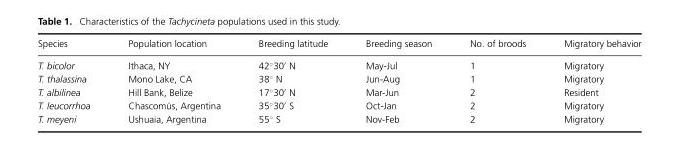table: (37, 37, 640, 124)
table column: (108, 37, 238, 124), (238, 37, 346, 124), (346, 37, 450, 124), (544, 37, 640, 124), (450, 37, 544, 124), (37, 37, 108, 124)
table column header: (37, 37, 640, 53)
table row: (37, 53, 640, 71), (37, 37, 640, 53), (37, 71, 640, 85), (37, 98, 640, 112), (37, 85, 640, 98), (37, 112, 640, 124)
